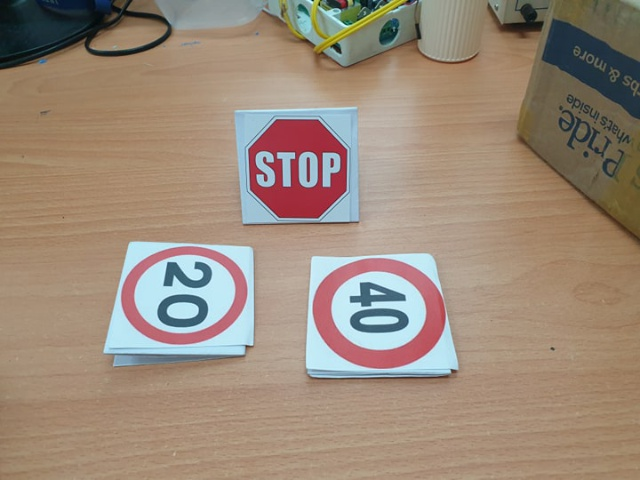Limit 20: (125, 248, 247, 340)
Limit 40: (315, 260, 447, 365)
Stop: (246, 121, 354, 218)
